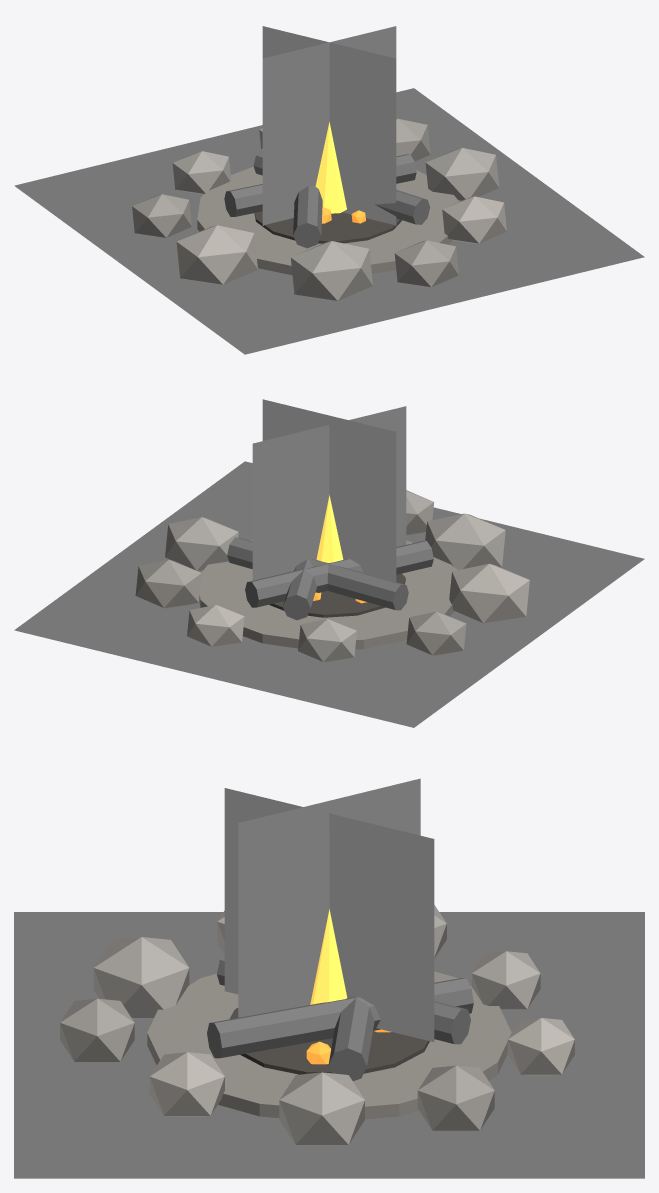
File: campfire.glb
The picture shows the model from 3 angles, top to bottom: view 1: azimuth 30°, elevation 25°; view 2: azimuth 150°, elevation 25°; view 3: azimuth 270°, elevation 25°; orthographic projection. The views are drawn at different scales.
Parts seen in each view (by area): view 1: ContactShadow, flameCard, flameCard.001, ash, ringStone.006, ringStone.005, ringStone, ringStone.008, ringStone.007, ringStone.004, emberBed, ringStone.003 (+5 smaller); view 2: ContactShadow, flameCard.002, flameCard.001, ash, ringStone.005, ringStone.006, log.001, log.002, ringStone, ringStone.001, ringStone.004, ringStone.003 (+5 smaller); view 3: ContactShadow, flameCard.002, flameCard, ash, log, ringStone.006, ringStone, ringStone.001, ringStone.008, ringStone.007, emberBed, ringStone.003 (+4 smaller).
Part boxes in pixels (bbox=[...]): ContactShadow: bbox=[14, 88, 644, 354]; flameCard: bbox=[262, 26, 396, 225]; flameCard.001: bbox=[262, 26, 396, 225]; ash: bbox=[197, 166, 459, 275]; ringStone.006: bbox=[290, 241, 372, 301]; ringStone.005: bbox=[176, 225, 257, 284]; ringStone: bbox=[425, 148, 499, 200]; ringStone.008: bbox=[442, 196, 506, 243]; ringStone.007: bbox=[394, 240, 458, 287]; ringStone.004: bbox=[132, 194, 191, 238]; emberBed: bbox=[254, 211, 401, 243]; ringStone.003: bbox=[172, 151, 231, 194]; ContactShadow: bbox=[14, 461, 644, 727]; flameCard.002: bbox=[252, 406, 406, 580]; flameCard.001: bbox=[262, 399, 396, 581]; ash: bbox=[199, 539, 457, 649]; ringStone.005: bbox=[449, 563, 529, 623]; ringStone.006: bbox=[425, 513, 505, 569]; log.001: bbox=[227, 537, 408, 610]; log.002: bbox=[245, 541, 433, 607]; ringStone: bbox=[165, 517, 238, 571]; ringStone.001: bbox=[135, 559, 201, 608]; ringStone.004: bbox=[406, 611, 466, 655]; ringStone.003: bbox=[298, 619, 356, 662]; ContactShadow: bbox=[14, 912, 644, 1178]; flameCard.002: bbox=[224, 788, 434, 1041]; flameCard: bbox=[238, 778, 420, 1017]; ash: bbox=[147, 971, 511, 1119]; log: bbox=[207, 978, 473, 1058]; ringStone.006: bbox=[93, 937, 189, 1018]; ringStone: bbox=[279, 1072, 364, 1145]; ringStone.001: bbox=[417, 1065, 494, 1131]; ringStone.008: bbox=[149, 1052, 224, 1116]; ringStone.007: bbox=[60, 998, 134, 1062]; emberBed: bbox=[229, 1008, 429, 1074]; ringStone.003: bbox=[472, 951, 540, 1010].
Size of the model in its own units: 1.8 by 0.832 by 1.8.
Materials: 11 (4 with a texture image).
